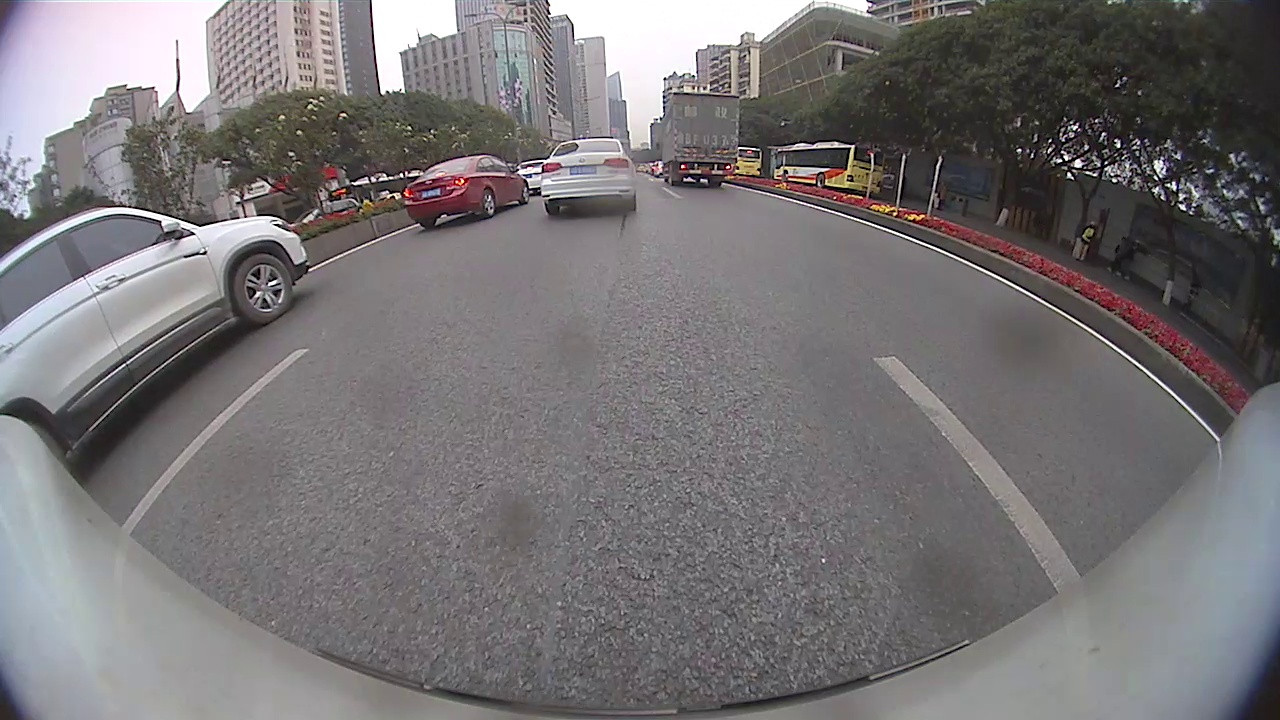bus: (768, 141, 888, 190), (734, 144, 764, 175)
car: (1, 208, 308, 460), (404, 153, 530, 230), (541, 136, 637, 219), (298, 200, 357, 223), (516, 160, 548, 195)
front: (234, 253, 292, 323), (521, 183, 530, 203)
person: (1079, 218, 1096, 262)
rear: (481, 189, 498, 219), (815, 172, 826, 190)
truck: (659, 91, 740, 189)
